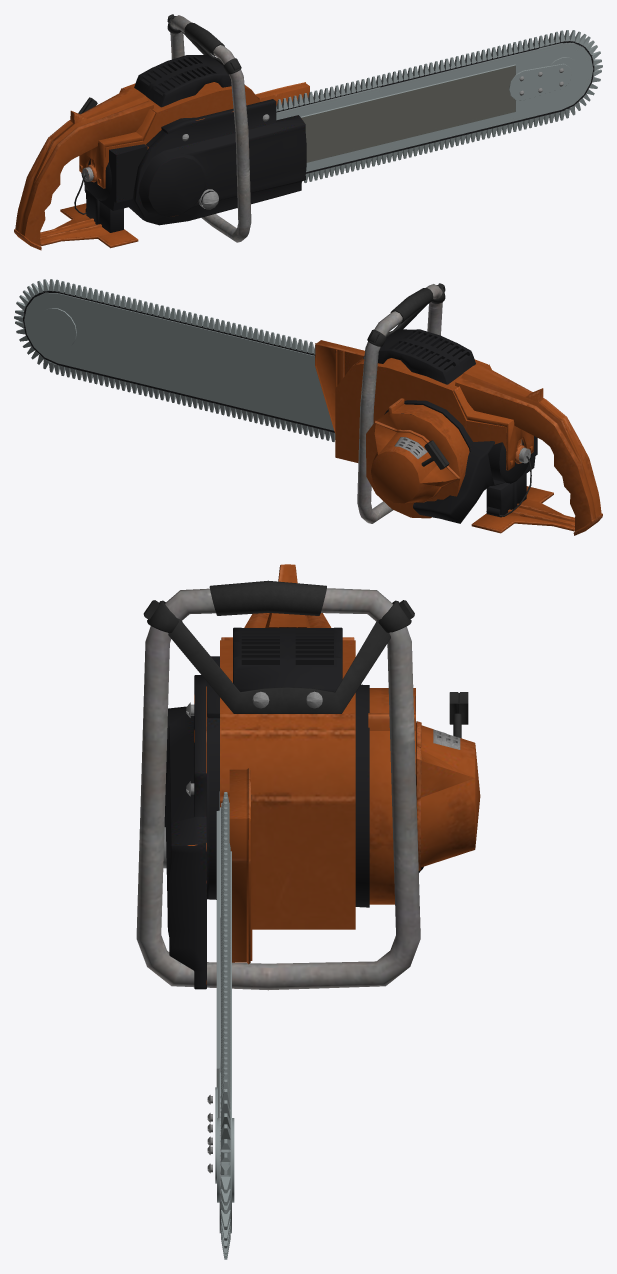
Rendered from chainsaw_c66.glb.
3 views of the same model, one above another, from view 1: azimuth 30°, elevation 25°; view 2: azimuth 150°, elevation 25°; view 3: azimuth 270°, elevation 25° (orthographic). The views are drawn at different scales.
Visible parts, largest first — view 1: dianju_mid_dianju_mid_0; view 2: dianju_mid_dianju_mid_0; view 3: dianju_mid_dianju_mid_0.
Boxes of the visible parts, box(x1,y1,x2,y2) form: dianju_mid_dianju_mid_0: box(14, 14, 602, 250); dianju_mid_dianju_mid_0: box(14, 279, 602, 535); dianju_mid_dianju_mid_0: box(136, 564, 480, 1259).
Bounding box in the file's own units: 0.9431 × 0.3141 × 0.2471.
Materials: 1 (1 with a texture image).
